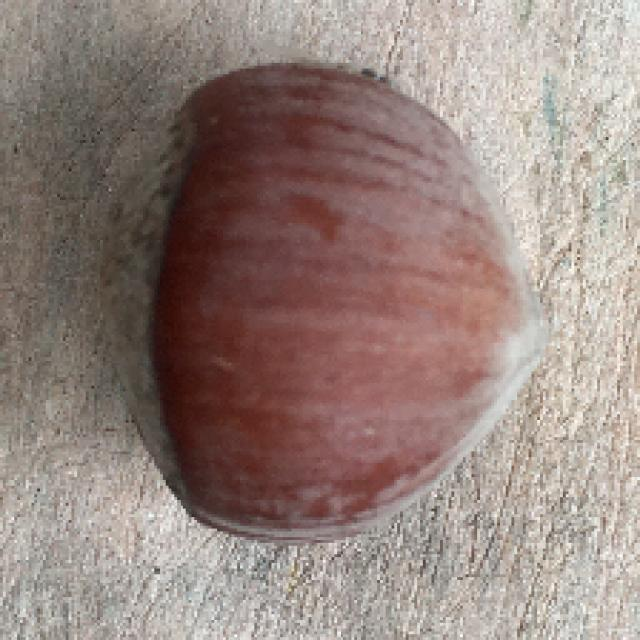QualityHazelnut: (95, 55, 550, 548)
